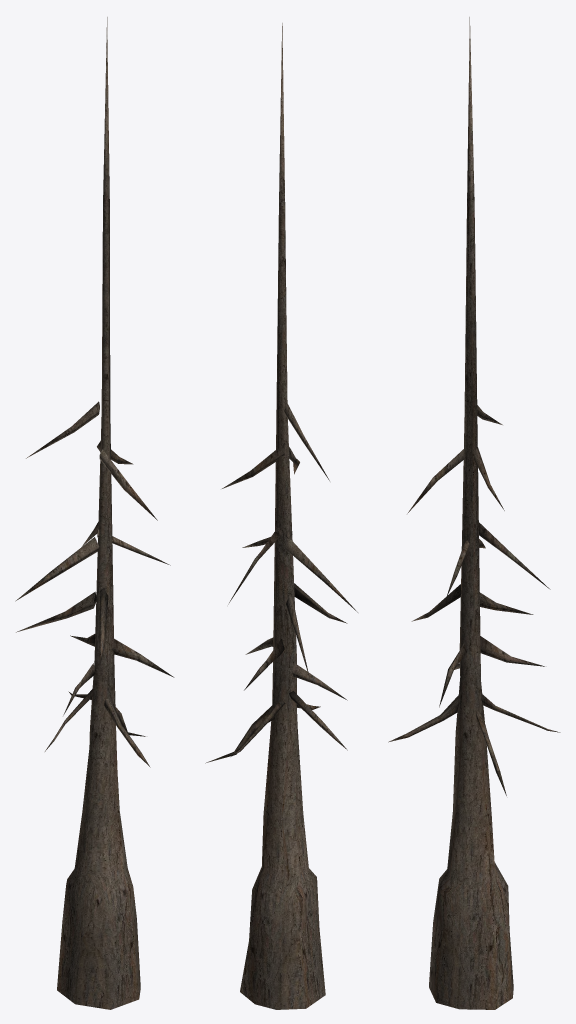
Rendered from distant-tree-27.glb.
3 renders of one model, left to right at view 1: azimuth 30°, elevation 25°; view 2: azimuth 150°, elevation 25°; view 3: azimuth 270°, elevation 25°, orthographic.
Visible parts, largest first — view 1: Tree_Trunk_01.002; view 2: Tree_Trunk_01.002; view 3: Tree_Trunk_01.002.
Part boxes in pixels (x1=…): Tree_Trunk_01.002: x1=15, y1=17, x2=174, y2=1009; Tree_Trunk_01.002: x1=205, y1=23, x2=357, y2=1009; Tree_Trunk_01.002: x1=388, y1=17, x2=560, y2=1009.
Bounding box in the file's own units: 262 × 1698 × 274.
1 material, 1 textured.
